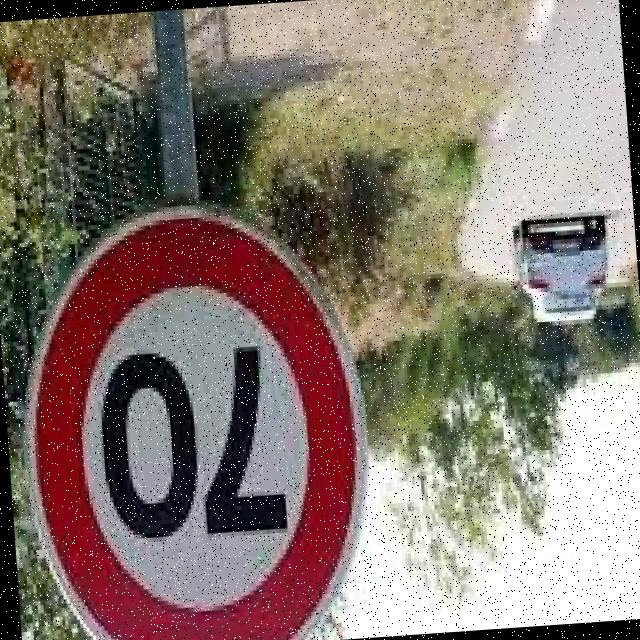speed_limit_70: (9, 189, 392, 640)
